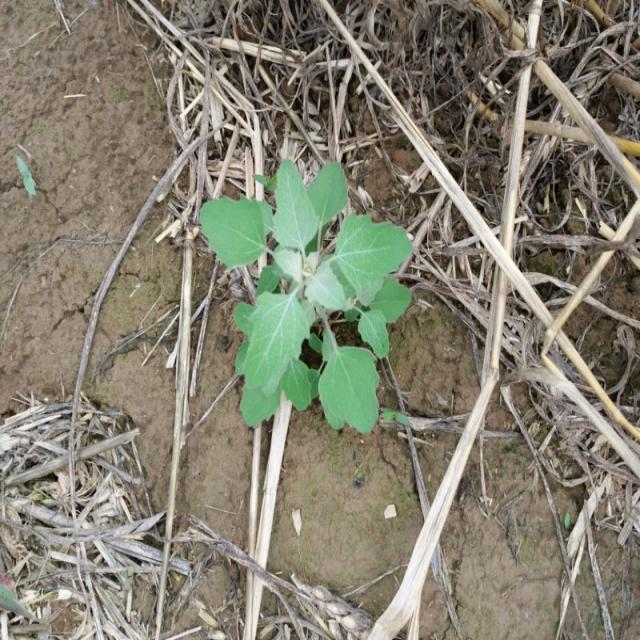goosefoots: (202, 138, 416, 442)
